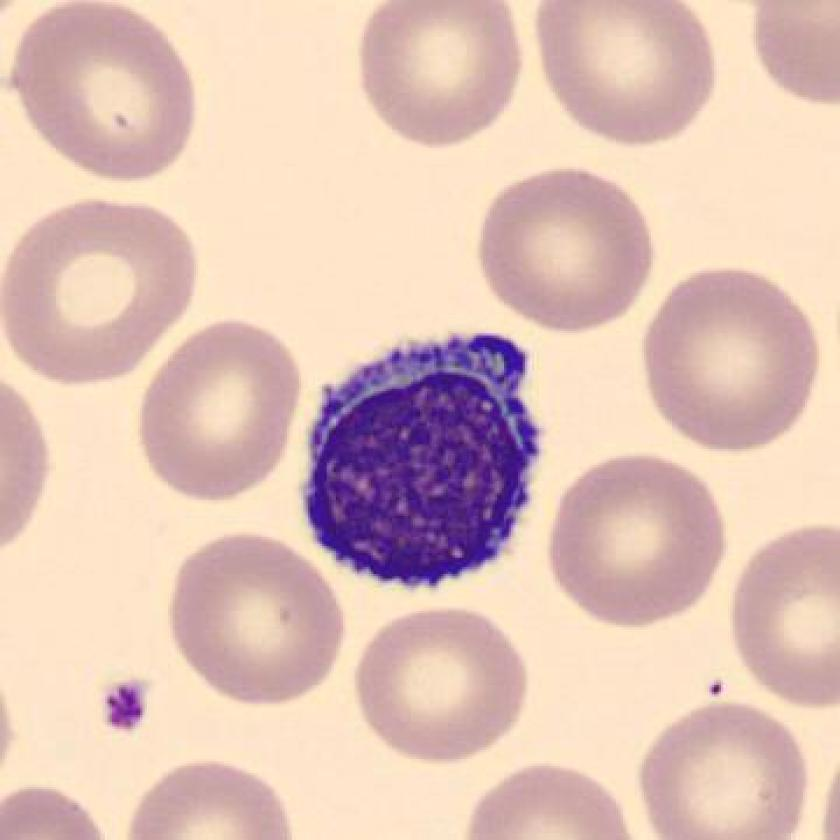lymphocyte: (279, 311, 559, 603)
